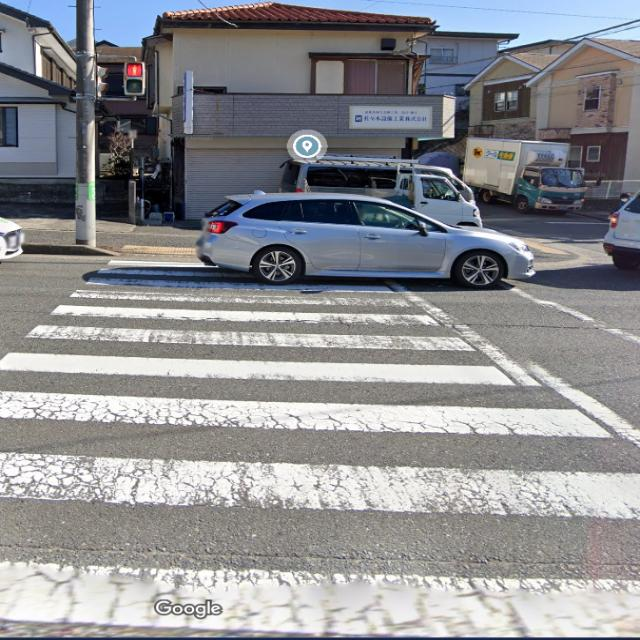traffic-light: (122, 62, 146, 95)
